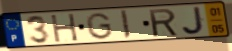3: (25, 14, 51, 45)
G: (84, 12, 114, 41)
H: (49, 12, 80, 44)
I: (119, 9, 132, 40)
J: (181, 5, 208, 36)
R: (147, 7, 180, 38)
